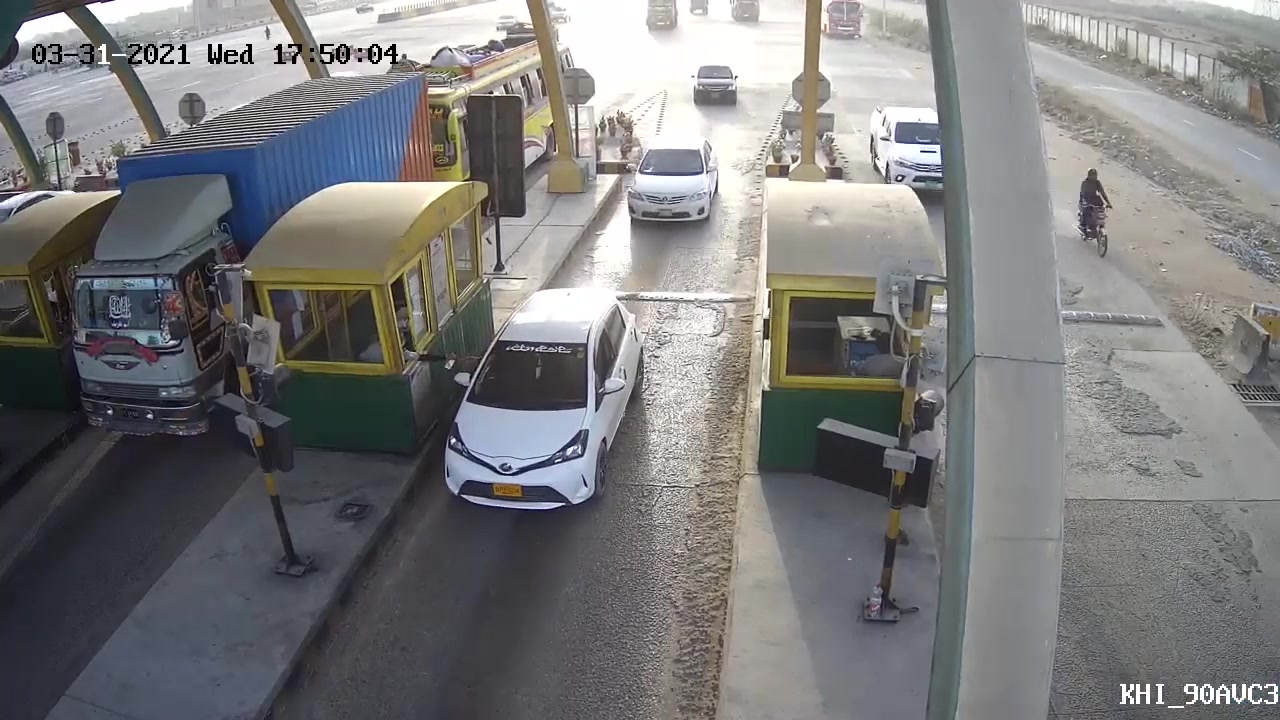F1: (440, 288, 648, 538), (622, 133, 726, 228)
